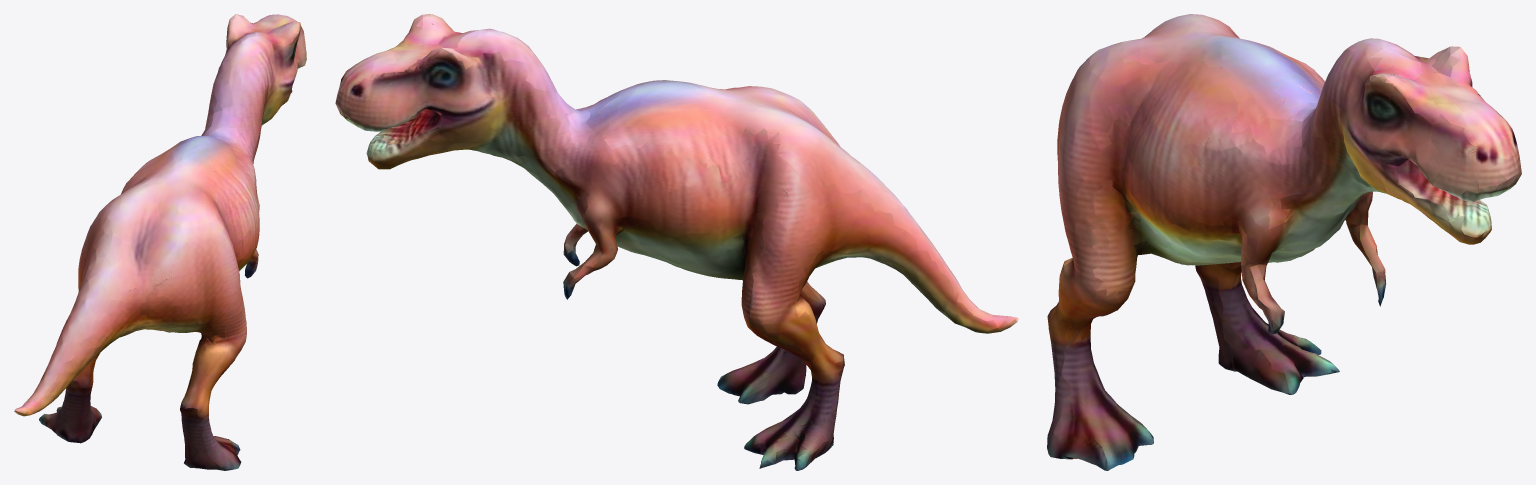
The model's file is dino.glb.
3 renders of one model, left to right at view 1: azimuth 30°, elevation 25°; view 2: azimuth 150°, elevation 25°; view 3: azimuth 270°, elevation 25°, orthographic. The views are drawn at different scales.
Parts seen in each view (by area): view 1: world; view 2: world; view 3: world.
Boxes of the visible parts, x1=… form: world: x1=14, y1=14, x2=306, y2=470; world: x1=335, y1=14, x2=1018, y2=470; world: x1=1047, y1=14, x2=1521, y2=470.
Bounding box in the file's own units: 1.01 × 0.7543 × 0.6386.
1 material, 1 textured.
